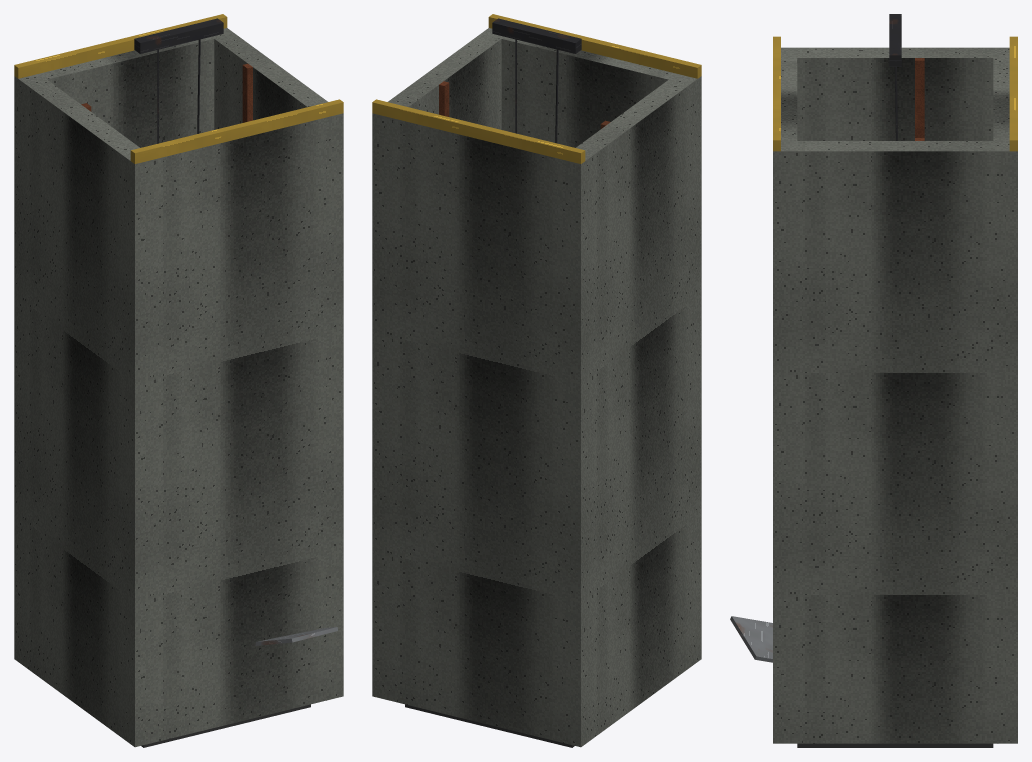
File: elevator_shaft.glb
The picture shows the model from 3 angles, left to right: view 1: azimuth 30°, elevation 25°; view 2: azimuth 150°, elevation 25°; view 3: azimuth 270°, elevation 25°; orthographic projection.
Parts seen in each view (by area): view 1: elevator_shaft; view 2: elevator_shaft; view 3: elevator_shaft.
Part boxes in pixels (bbox=[...]): elevator_shaft: bbox=[14, 14, 343, 747]; elevator_shaft: bbox=[372, 14, 701, 747]; elevator_shaft: bbox=[730, 14, 1017, 747].
Size of what is drawn, in the model's own units: 3 by 9.09 by 3.52.
10 materials, 7 textured.
